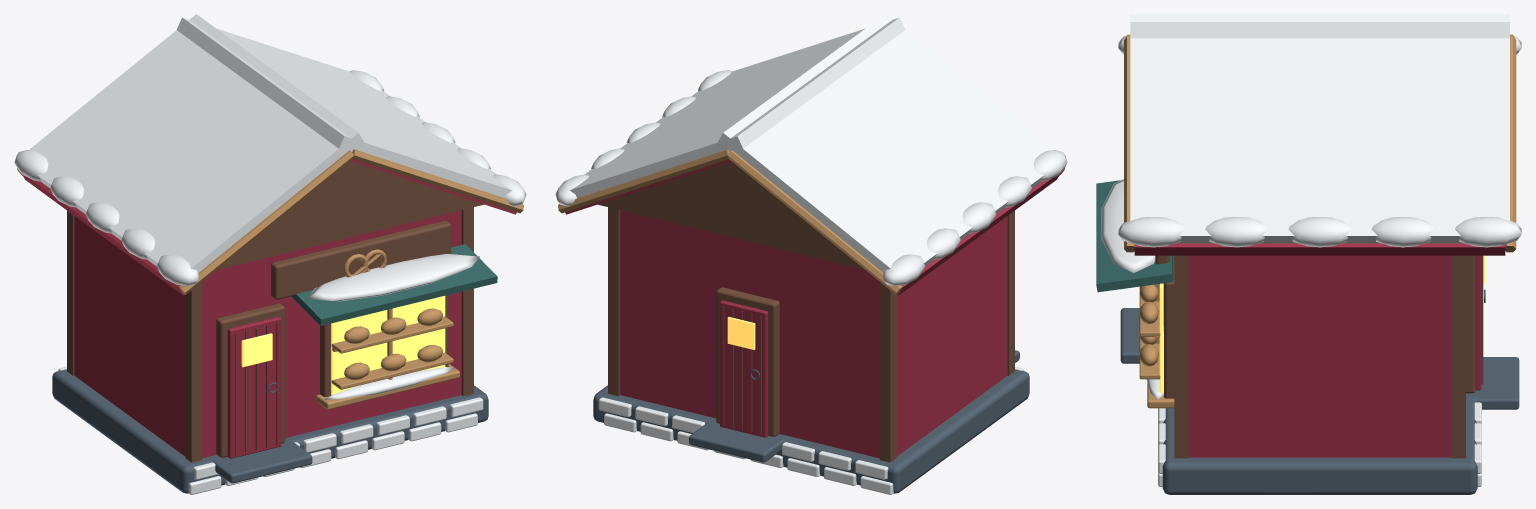
The model's file is alpine-snow-village-alpine-bakery-71117aa1__19783.glb.
3 renders of one model, left to right at view 1: azimuth 30°, elevation 25°; view 2: azimuth 150°, elevation 25°; view 3: azimuth 270°, elevation 25°, orthographic. The views are drawn at different scales.
Visible parts, largest first — view 1: alpine-bakery-snow, alpine-bakery-berry, alpine-bakery-wood, alpine-bakery-iron, alpine-bakery-oak, alpine-bakery-amber, alpine-bakery-pine; view 2: alpine-bakery-snow, alpine-bakery-berry, alpine-bakery-wood, alpine-bakery-iron, alpine-bakery-oak, alpine-bakery-amber; view 3: alpine-bakery-snow, alpine-bakery-berry, alpine-bakery-iron, alpine-bakery-wood, alpine-bakery-oak, alpine-bakery-pine, alpine-bakery-amber.
Part boxes in pixels (<box>): alpine-bakery-snow: <box>14,14,526,494</box>; alpine-bakery-berry: <box>21,159,516,458</box>; alpine-bakery-wood: <box>67,161,483,462</box>; alpine-bakery-iron: <box>52,369,488,493</box>; alpine-bakery-oak: <box>17,149,523,409</box>; alpine-bakery-amber: <box>241,296,445,394</box>; alpine-bakery-pine: <box>291,244,497,325</box>; alpine-bakery-snow: <box>555,14,1067,494</box>; alpine-bakery-berry: <box>565,159,1060,458</box>; alpine-bakery-wood: <box>598,161,1014,462</box>; alpine-bakery-iron: <box>593,350,1029,493</box>; alpine-bakery-oak: <box>558,149,1064,294</box>; alpine-bakery-amber: <box>727,317,755,349</box>; alpine-bakery-snow: <box>1101,14,1521,486</box>; alpine-bakery-berry: <box>1134,243,1505,457</box>; alpine-bakery-iron: <box>1120,289,1519,494</box>; alpine-bakery-wood: <box>1155,255,1483,458</box>; alpine-bakery-oak: <box>1124,34,1516,408</box>; alpine-bakery-pine: <box>1096,180,1173,292</box>; alpine-bakery-amber: <box>1159,255,1485,393</box>.
Size of the model in its own units: 5.36 by 4.81 by 4.73.
